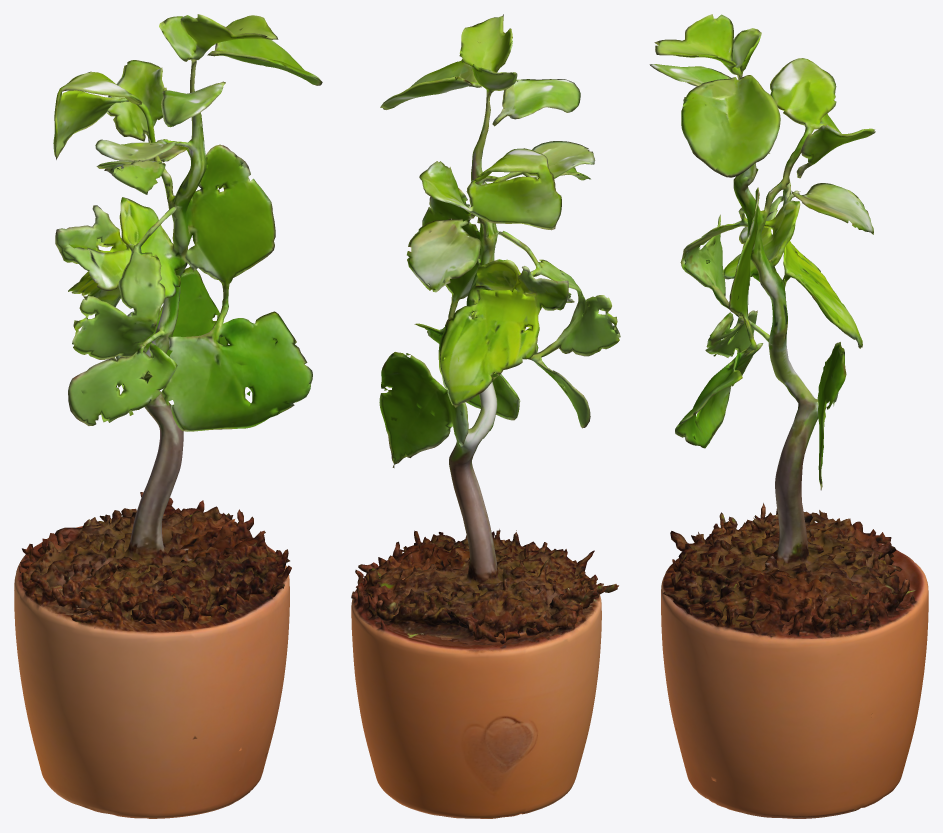
The model's file is giloy.glb.
3 views of the same model, side by side, from view 1: azimuth 30°, elevation 25°; view 2: azimuth 150°, elevation 25°; view 3: azimuth 270°, elevation 25° (orthographic). The views are drawn at different scales.
Size of the model in its own units: 0.6843 by 2 by 0.6631.
Materials: 1 (1 with a texture image).
